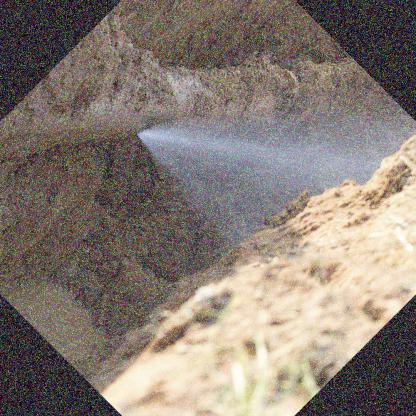burst: (120, 115, 183, 167)
